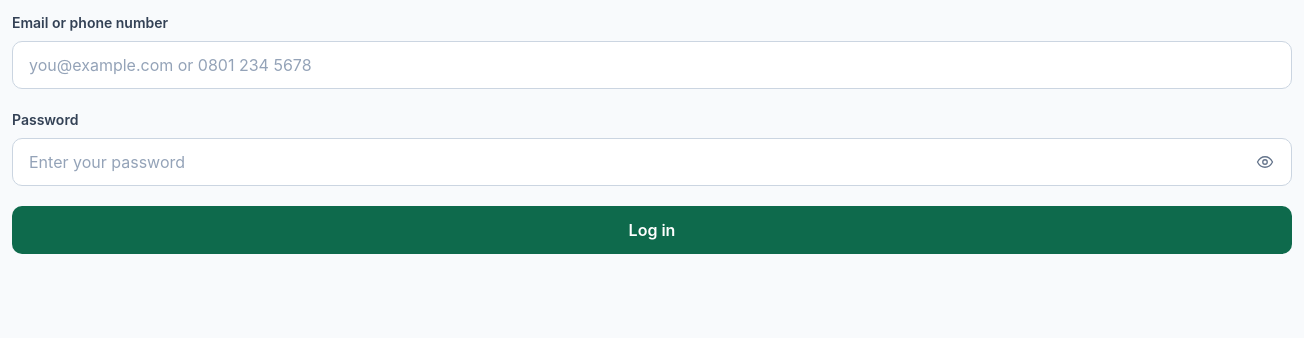
it: <LoginForm /> › never shows raw transport errors
Type "john@example.com" into the field labelled "Email or phone number".
click(652, 65); type("john@example.com")  # box [13,42,1291,88]
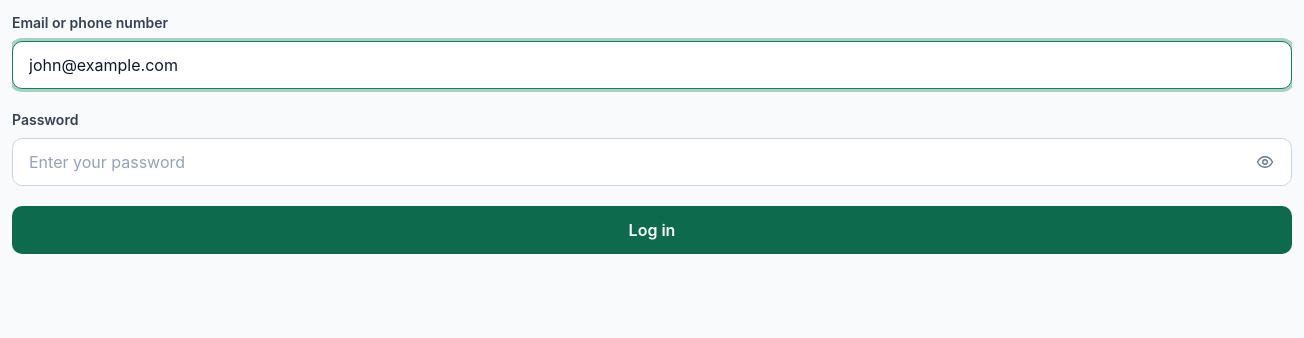
Type "Password123!" into the password field labelled "Password".
click(630, 162); type("Password123!")  # box [13,139,1247,185]
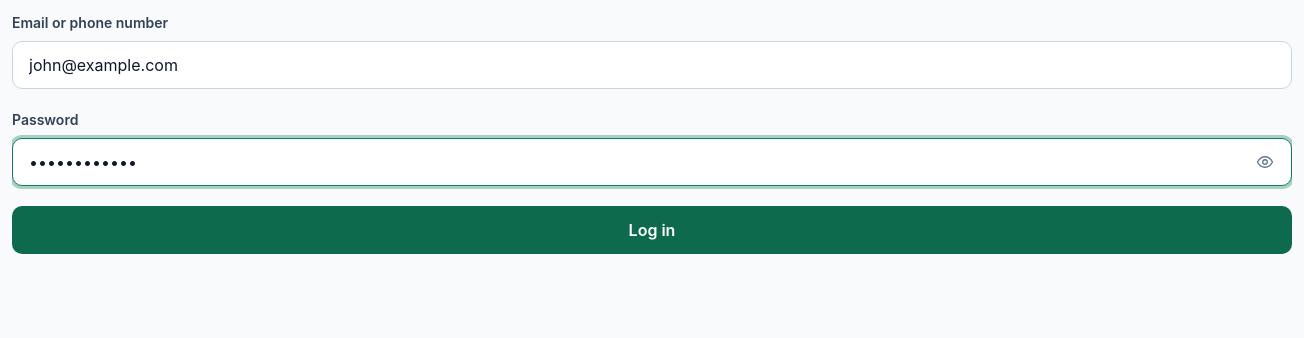
Click the button "Log in".
click(652, 230)  # box [12,206,1292,254]
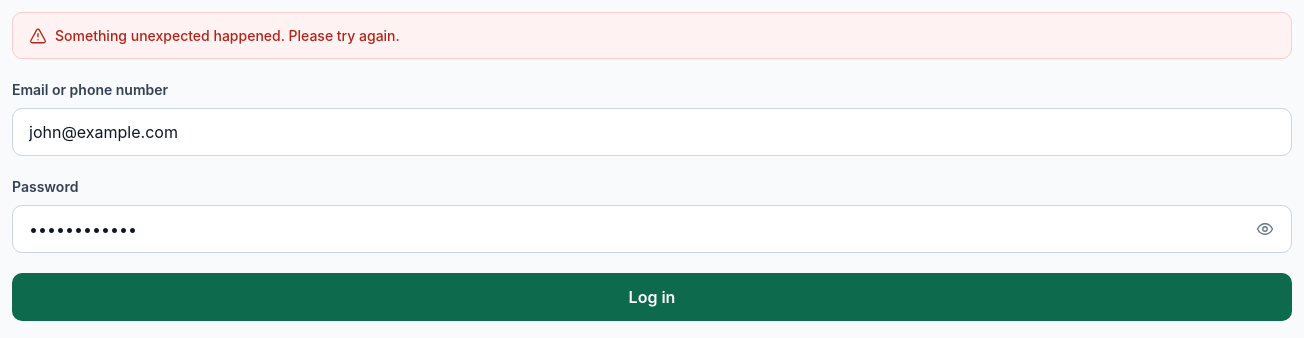
expect the message does not show "failed to fetch": met, box [12,12,1292,59]
expect the message shows "Something unexpected happened": met, box [55,27,400,44]
